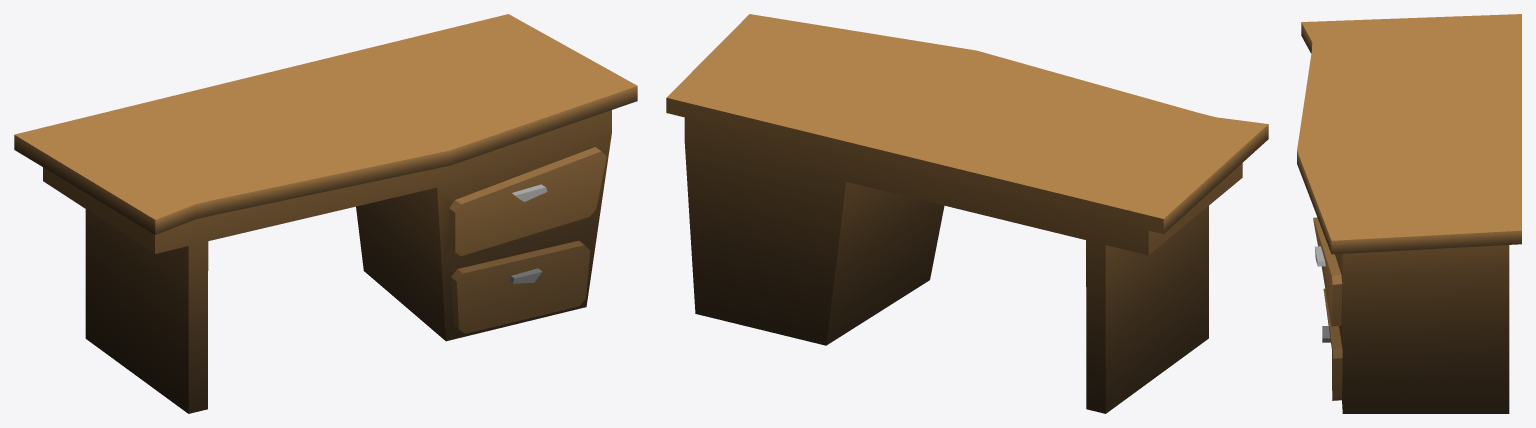
The model's file is scrivania_pic.fbx.
3 renders of one model, left to right at view 1: azimuth 30°, elevation 25°; view 2: azimuth 150°, elevation 25°; view 3: azimuth 270°, elevation 25°, orthographic. The views are drawn at different scales.
Visible parts, largest first — view 1: SM_scrivania_pic; view 2: SM_scrivania_pic; view 3: SM_scrivania_pic.
Part boxes in pixels (box(x1,y1,x2,y2)): SM_scrivania_pic: box(14, 14, 637, 413); SM_scrivania_pic: box(666, 14, 1268, 413); SM_scrivania_pic: box(1297, 14, 1521, 413).
Size of the model in its own units: 389 by 154 by 163.
